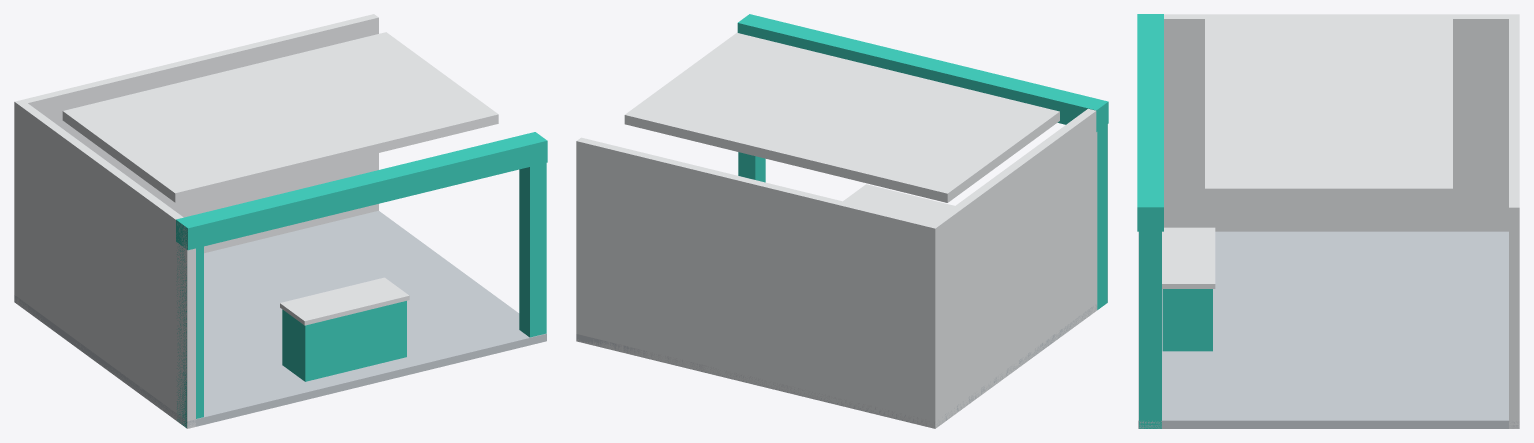
The picture shows the model from 3 angles, left to right: view 1: azimuth 30°, elevation 25°; view 2: azimuth 150°, elevation 25°; view 3: azimuth 270°, elevation 25°; orthographic projection. The views are drawn at different scales.
Parts seen in each view (by area): view 1: Exhibition Booth Concept; view 2: Exhibition Booth Concept; view 3: Exhibition Booth Concept.
Part boxes in pixels (<box>): Exhibition Booth Concept: <box>14,14,547,428</box>; Exhibition Booth Concept: <box>576,14,1108,428</box>; Exhibition Booth Concept: <box>1137,14,1519,428</box>.
Size of the model in its own units: 6 by 3.34 by 5.02.
